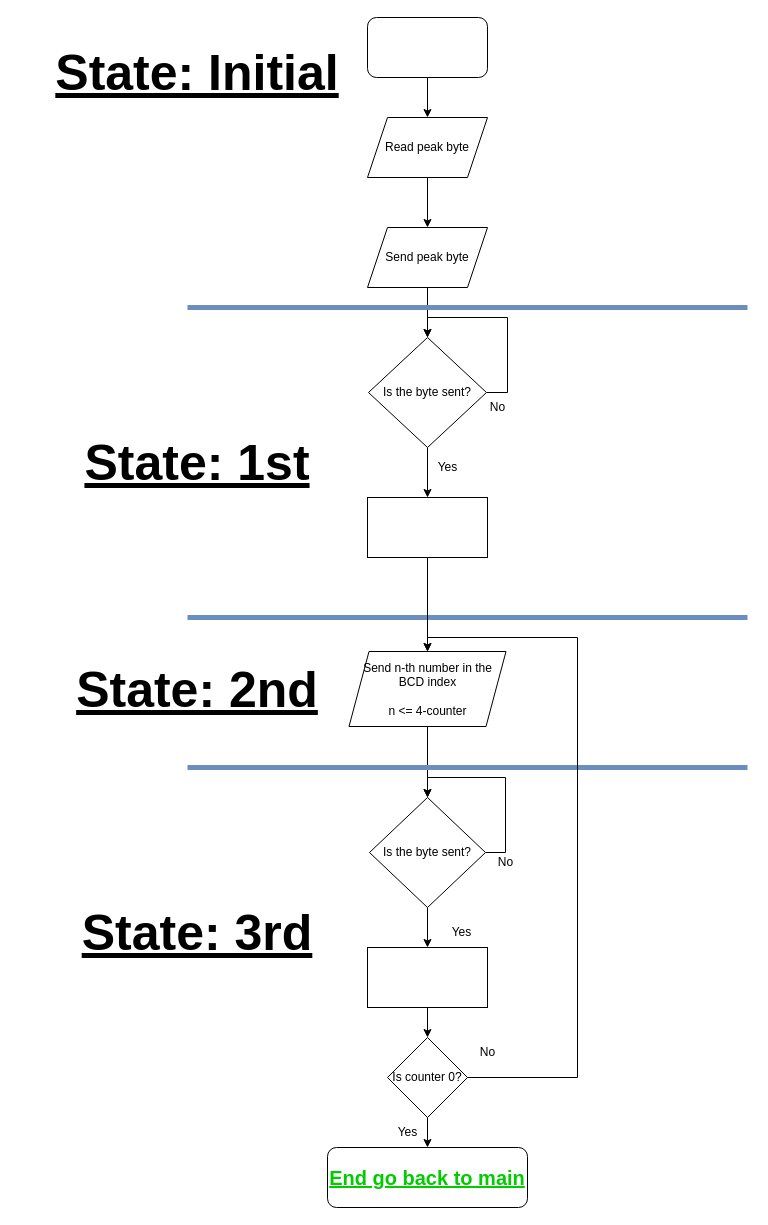
Image size: 768x1225. Some labels were removed from this diagram. Each missing label, with the box of its shape:
Set counter to 3: (366, 496, 488, 558)
Start: (366, 16, 488, 78)
Subtract 1 from counter: (366, 946, 488, 1008)
